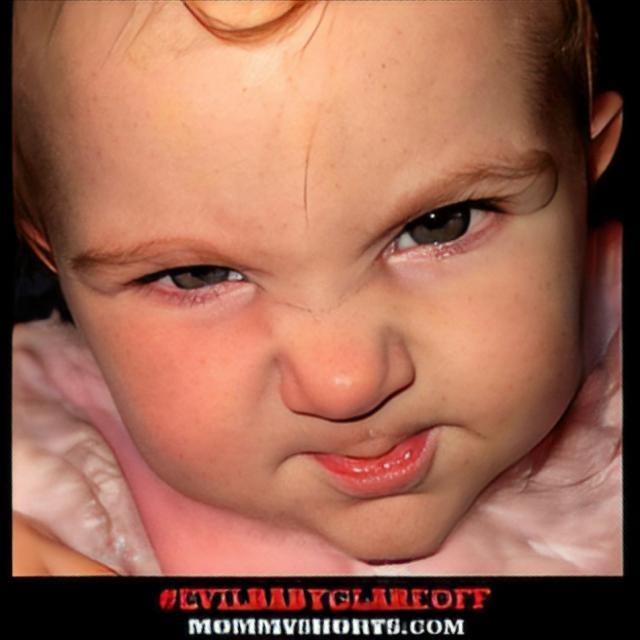anger: (78, 0, 560, 547)
